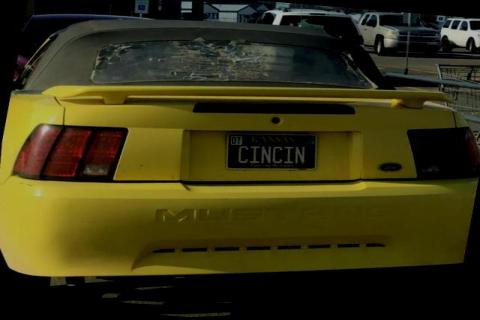LicensePlate: (222, 131, 316, 170)
